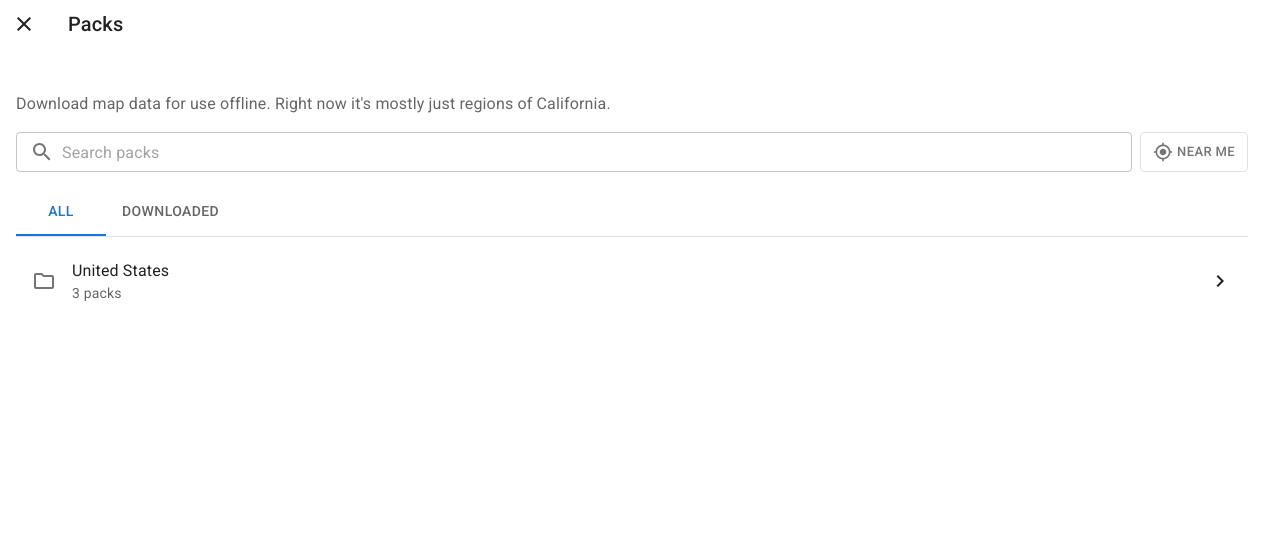
Test case: Packs › when packs are nested › opens a pack that has packs inside it when its row is tapped, with no radio
The width and height of the screenshot is (1265, 559).
What coordinates should you click on to do the following:
click the text "United States"
I would click on:
 (121, 270)
Its box is [72,261,169,280].
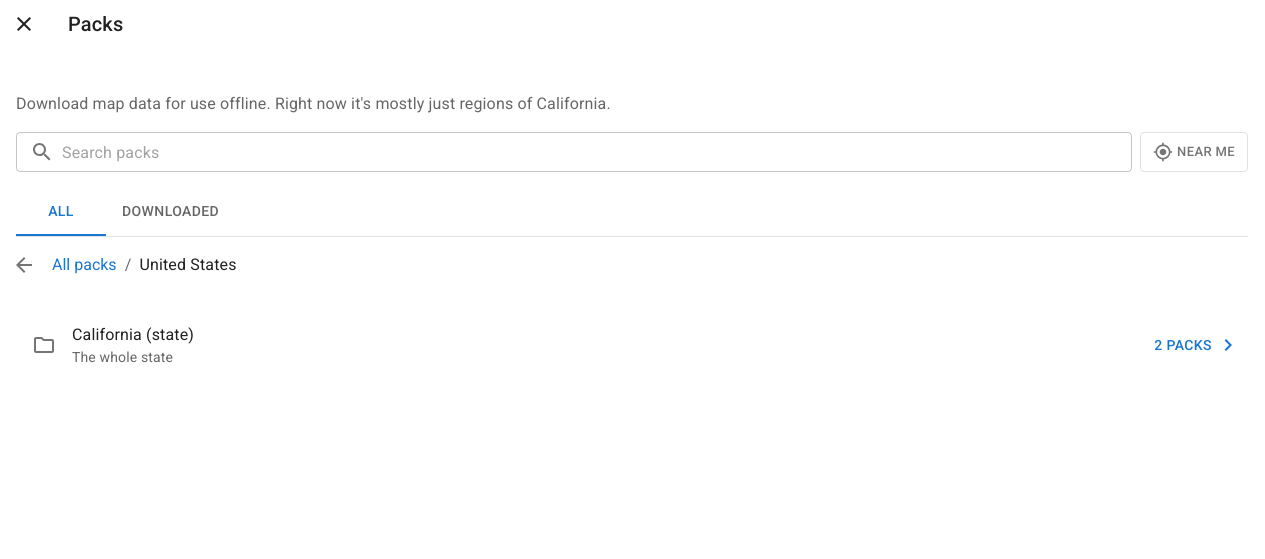
Check: the text "California (state)" is shown
What coordinates should you click on to do the following:
click the text "California (state)"
I would click on:
 (133, 334)
Its box is [72,325,194,344].
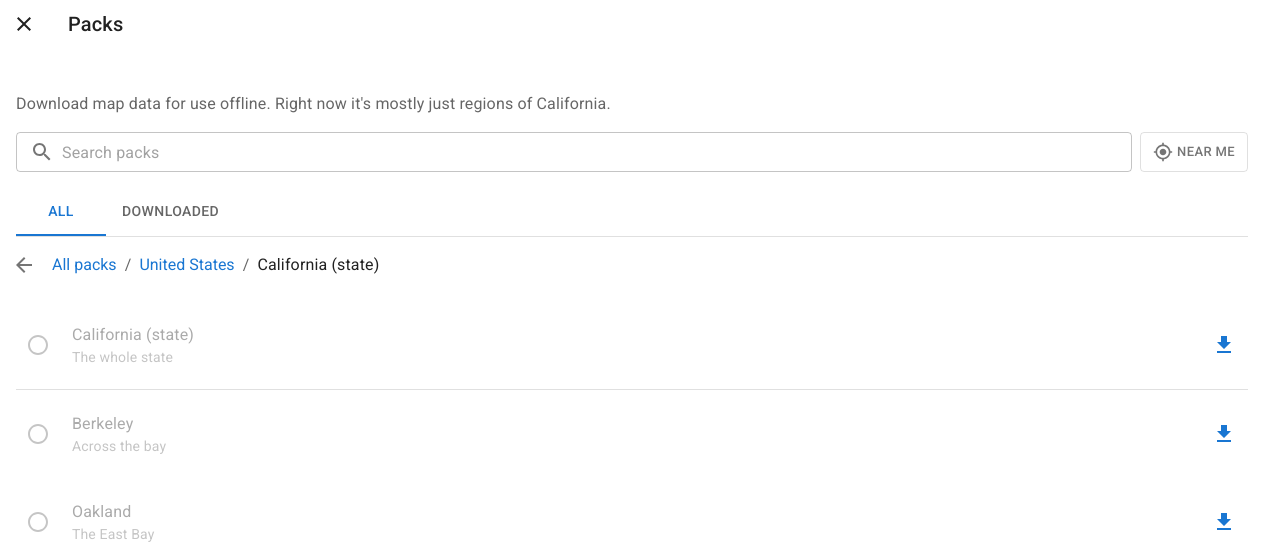
Check: the text "Oakland" is shown, box [72,502,131,521]
